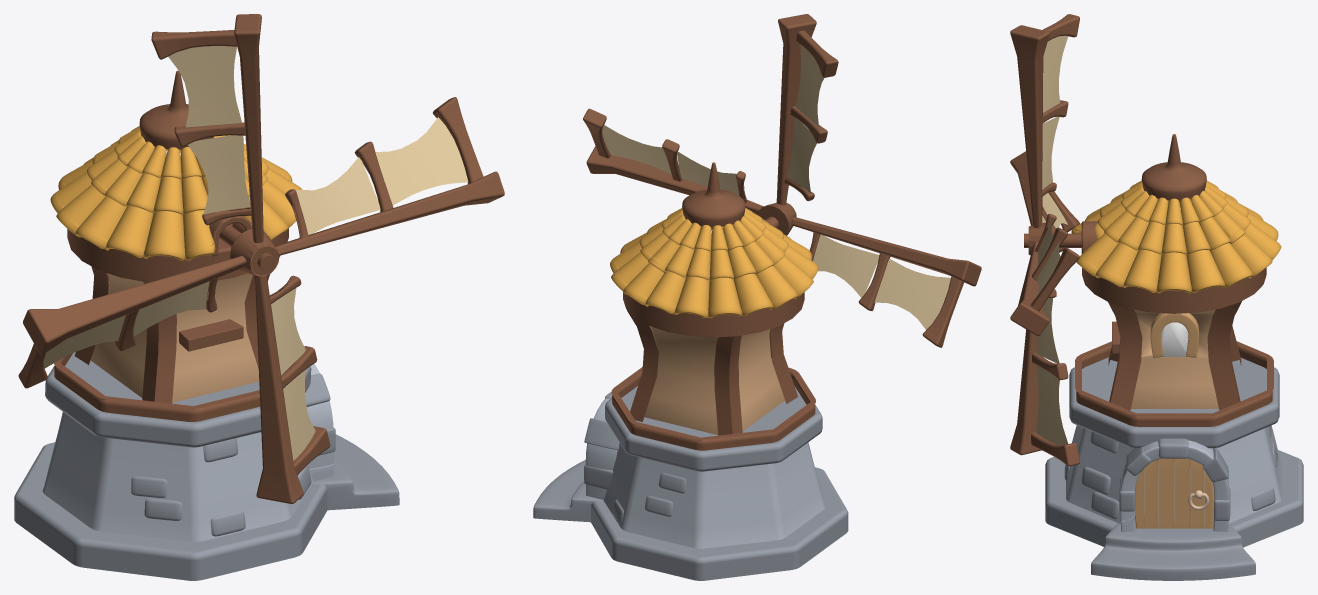
File: Windmill.fbx
3 views of the same model, side by side, from view 1: azimuth 30°, elevation 25°; view 2: azimuth 150°, elevation 25°; view 3: azimuth 270°, elevation 25° (orthographic). The views are drawn at different scales.
Parts seen in each view (by area): view 1: Circle.066, Circle, Circle.009, Circle.029, Circle.006, Circle.007, Circle.019, Circle.003; view 2: Circle.066, Circle, Circle.009, Circle.029, Circle.006, Circle.007; view 3: Circle.066, Circle, Circle.009, Circle.029, Circle.006, Circle.007, Circle.010, Circle.003.
Boxes of the visible parts, <box> form: Circle.066: <box>18,14,504,503</box>; Circle: <box>14,412,399,580</box>; Circle.009: <box>43,46,468,460</box>; Circle.029: <box>50,126,302,260</box>; Circle.006: <box>45,352,335,536</box>; Circle.007: <box>306,364,333,481</box>; Circle.019: <box>183,210,215,260</box>; Circle.003: <box>209,216,251,256</box>; Circle.066: <box>583,14,981,450</box>; Circle: <box>533,442,848,580</box>; Circle.009: <box>602,45,950,434</box>; Circle.029: <box>610,208,818,318</box>; Circle.006: <box>584,386,822,524</box>; Circle.007: <box>585,398,617,499</box>; Circle.066: <box>1010,14,1273,466</box>; Circle: <box>1045,425,1303,580</box>; Circle.009: <box>1036,35,1218,528</box>; Circle.029: <box>1076,180,1281,293</box>; Circle.006: <box>1064,357,1279,520</box>; Circle.007: <box>1120,440,1229,531</box>; Circle.010: <box>1161,322,1188,356</box>; Circle.003: <box>1081,221,1097,253</box>.
Size of the model in its own units: 800 by 920 by 524.
